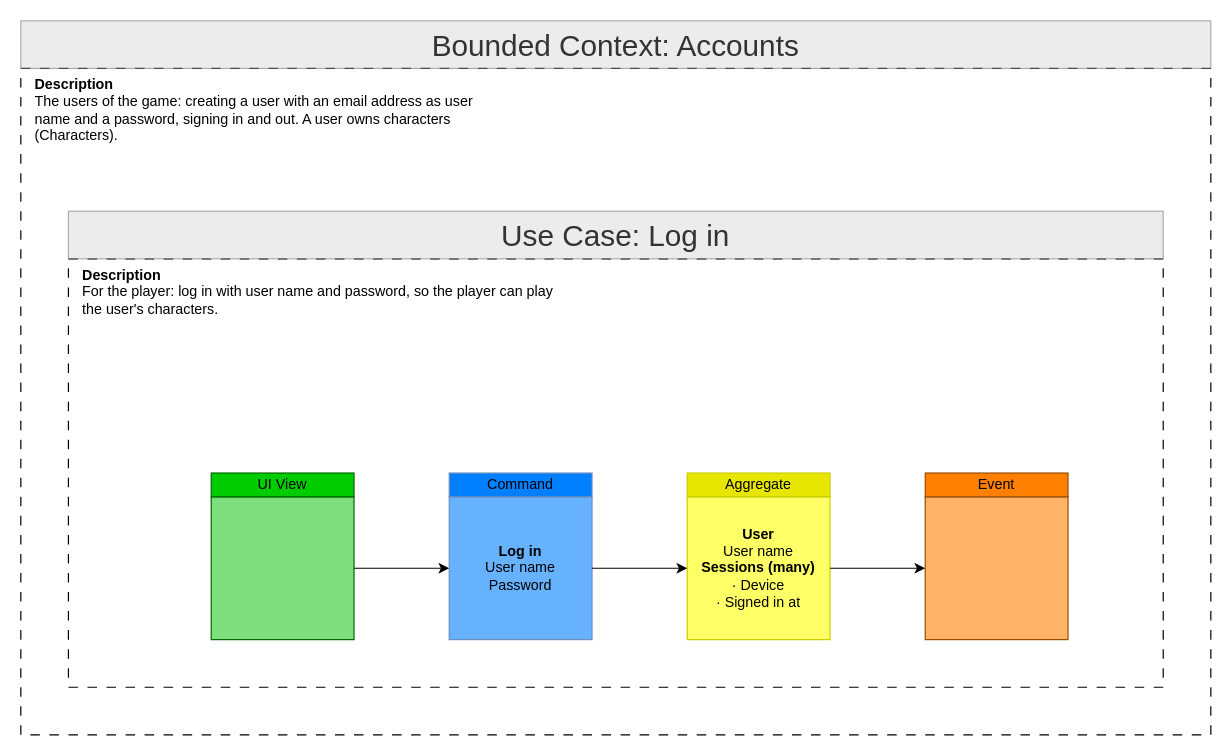
This 1232x756 diagram has some shape labels left out. Here are the shapes that lost their labels. From the top down, the centre of each, then its label:
At (282,568): "Sign in Player".
At (996,568): "User logged in".
